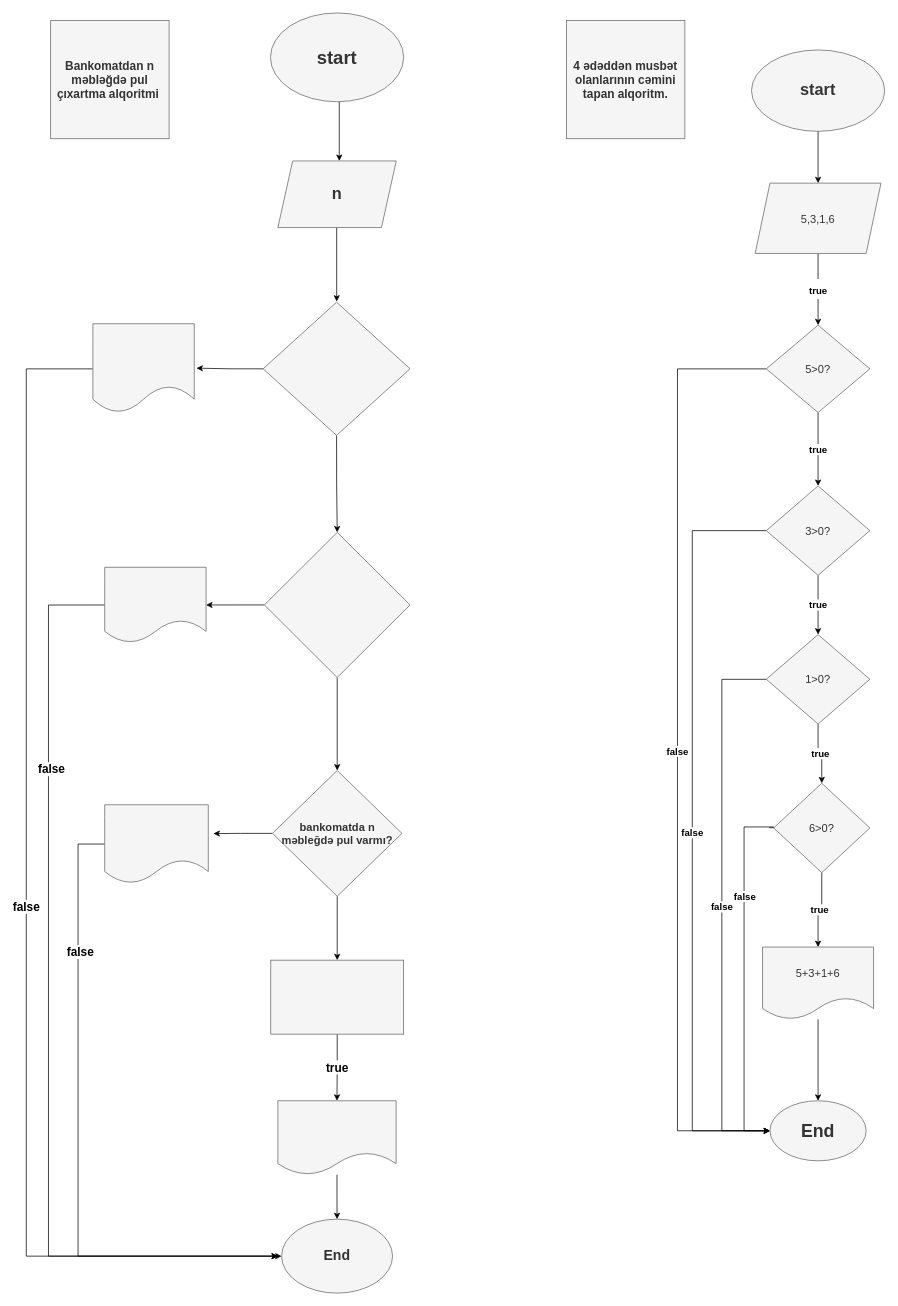
The diagram is 898 pixels wide and 1306 high, and some of its shapes have lost their labels. Each missing label, with the centre of its shape:
"bankomata kartı daxil etdinmi?" goes at [336,368].
"bankomatda pul yoxdur." goes at [156,843].
"bankomatdan n sayda pun çəkilir" goes at [337,996].
"karti qəbul etmir." goes at [143,368].
"n sayda pul çəkildi." goes at [336,1137].
"şifrə yalmışdır." goes at [155,605].
"şifrəni yazdinmı?" goes at [337,605].
